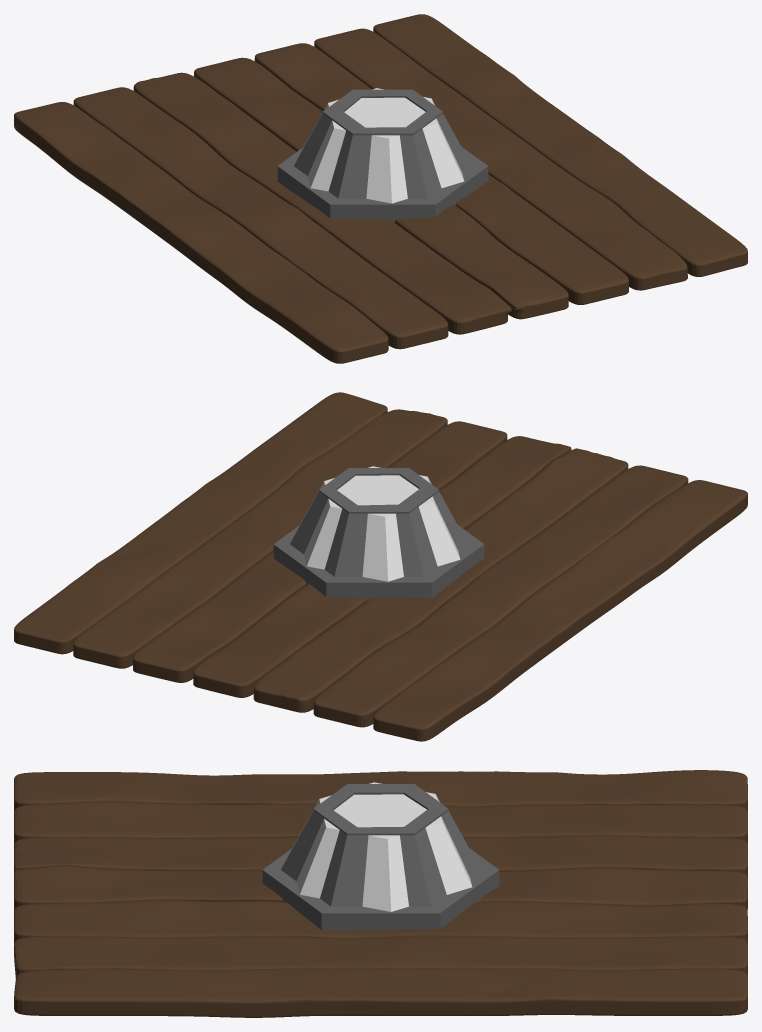
The model's file is OriginalTable.fbx.
The picture shows the model from 3 angles, top to bottom: view 1: azimuth 30°, elevation 25°; view 2: azimuth 150°, elevation 25°; view 3: azimuth 270°, elevation 25°; orthographic projection. The views are drawn at different scales.
Visible parts, largest first — view 1: Cube, Cone.001; view 2: Cube, Cone.001; view 3: Cube, Cone.001.
Part boxes in pixels (bbox=[...]): Cube: bbox=[14, 14, 747, 363]; Cone.001: bbox=[301, 88, 464, 203]; Cube: bbox=[14, 392, 747, 741]; Cone.001: bbox=[297, 466, 460, 581]; Cube: bbox=[14, 770, 747, 1017]; Cone.001: bbox=[289, 782, 472, 911].
Bounding box in the file's own units: 804 × 160 × 1086.
